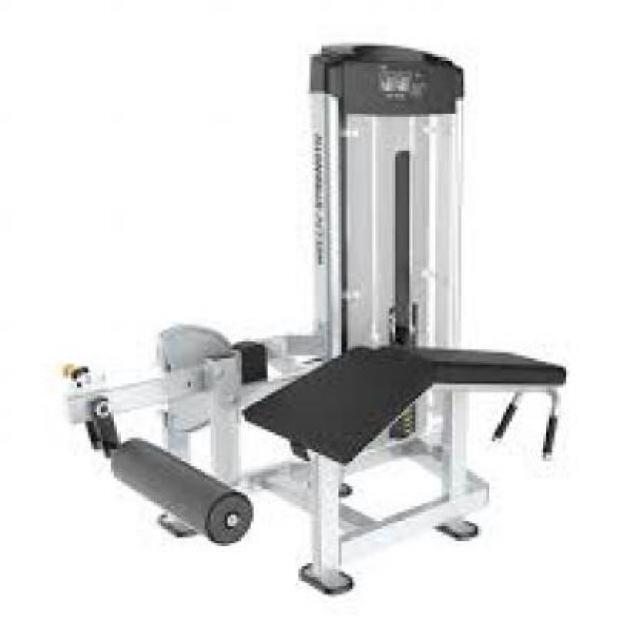reg curl machine: (21, 25, 598, 588)
